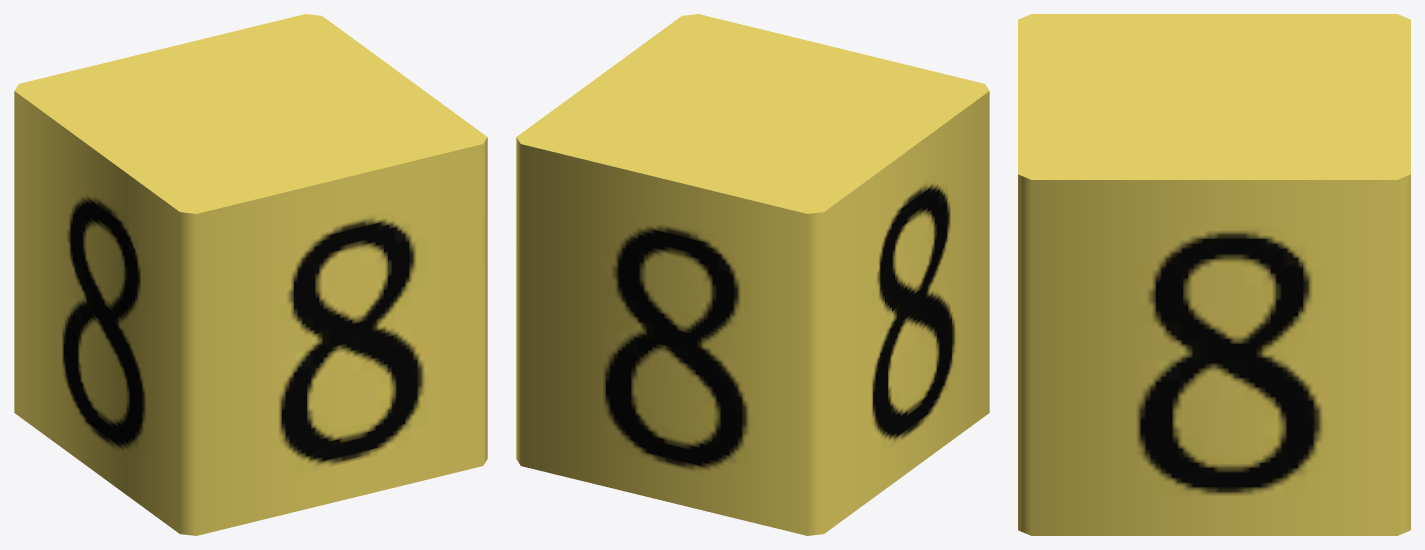
Rendered from block8.dae.
3 renders of one model, left to right at view 1: azimuth 30°, elevation 25°; view 2: azimuth 150°, elevation 25°; view 3: azimuth 270°, elevation 25°, orthographic. The views are drawn at different scales.
Visible parts, largest first — view 1: pCube31; view 2: pCube31; view 3: pCube31.
Part boxes in pixels (box(x1,y1,x2,y2)): pCube31: box(14, 14, 487, 535); pCube31: box(516, 14, 989, 535); pCube31: box(1018, 14, 1410, 535).
Size of the model in its own units: 0.4263 by 0.4263 by 0.4263.
1 material, 1 textured.
